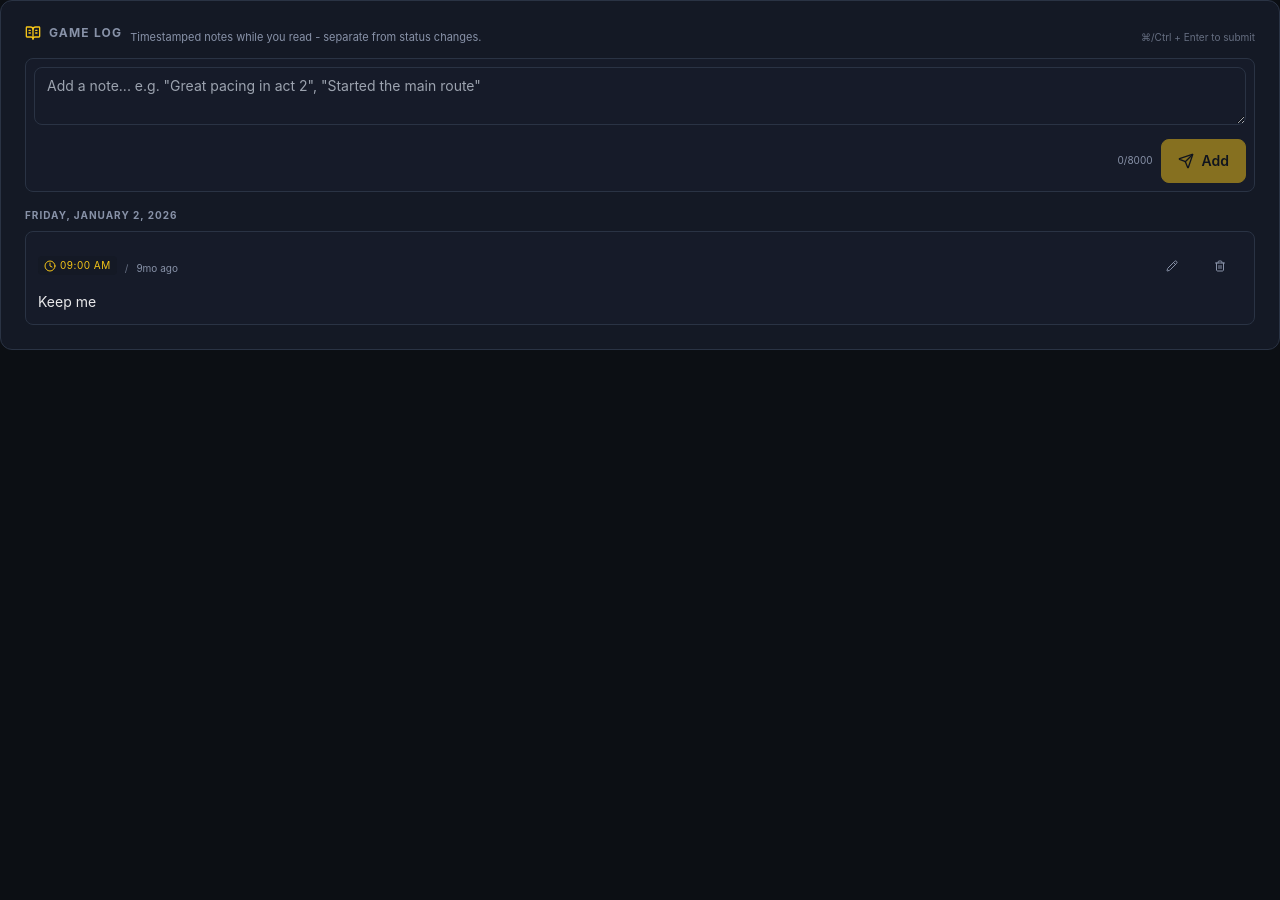
Test: GameLog branches › performs no DELETE when the remove confirm is cancelled
This screenshot has width=1280, height=900.
Click the button named "Delete": (1220, 266) [1198,244,1242,288]
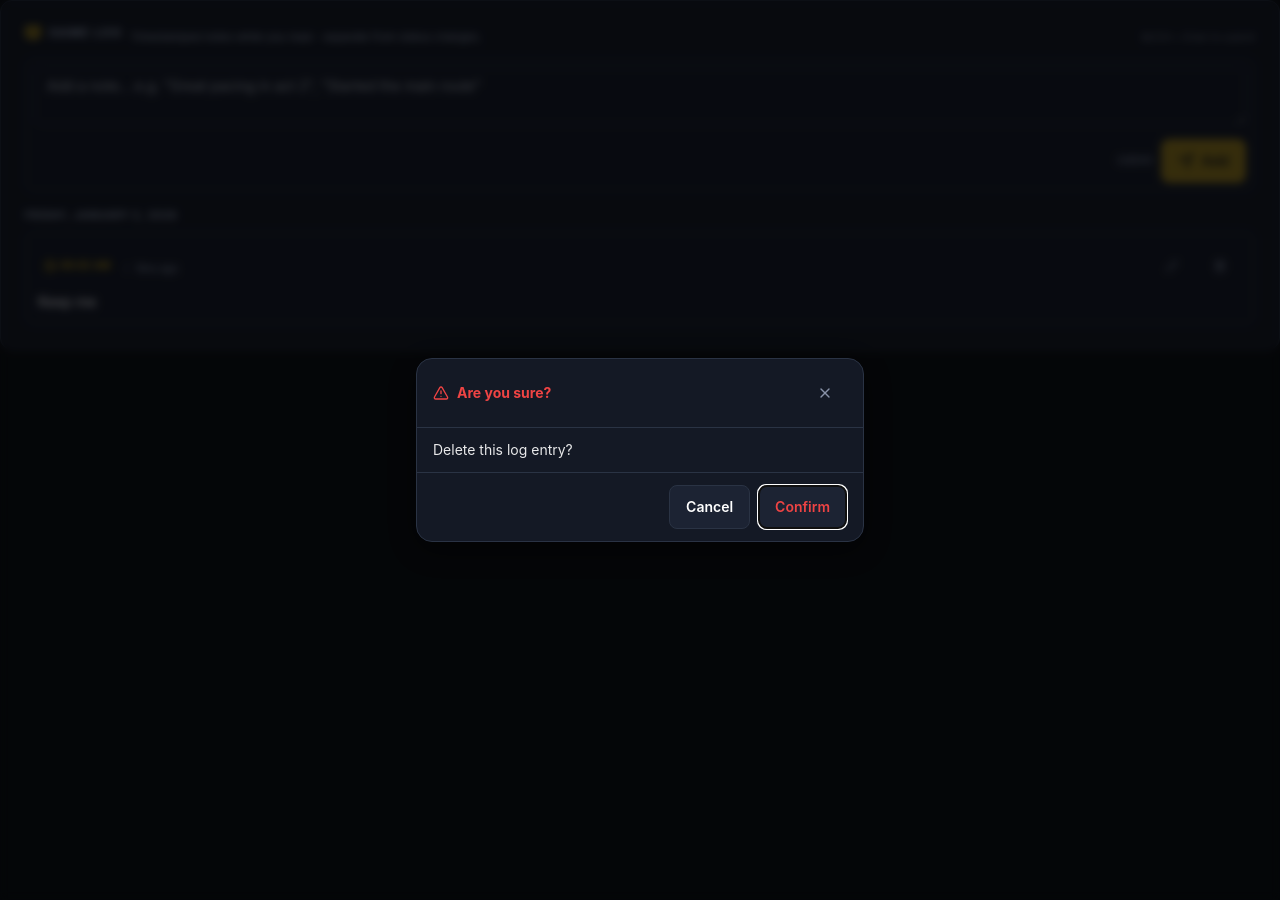
Click the button "Cancel": (710, 507) [669,485,750,529]
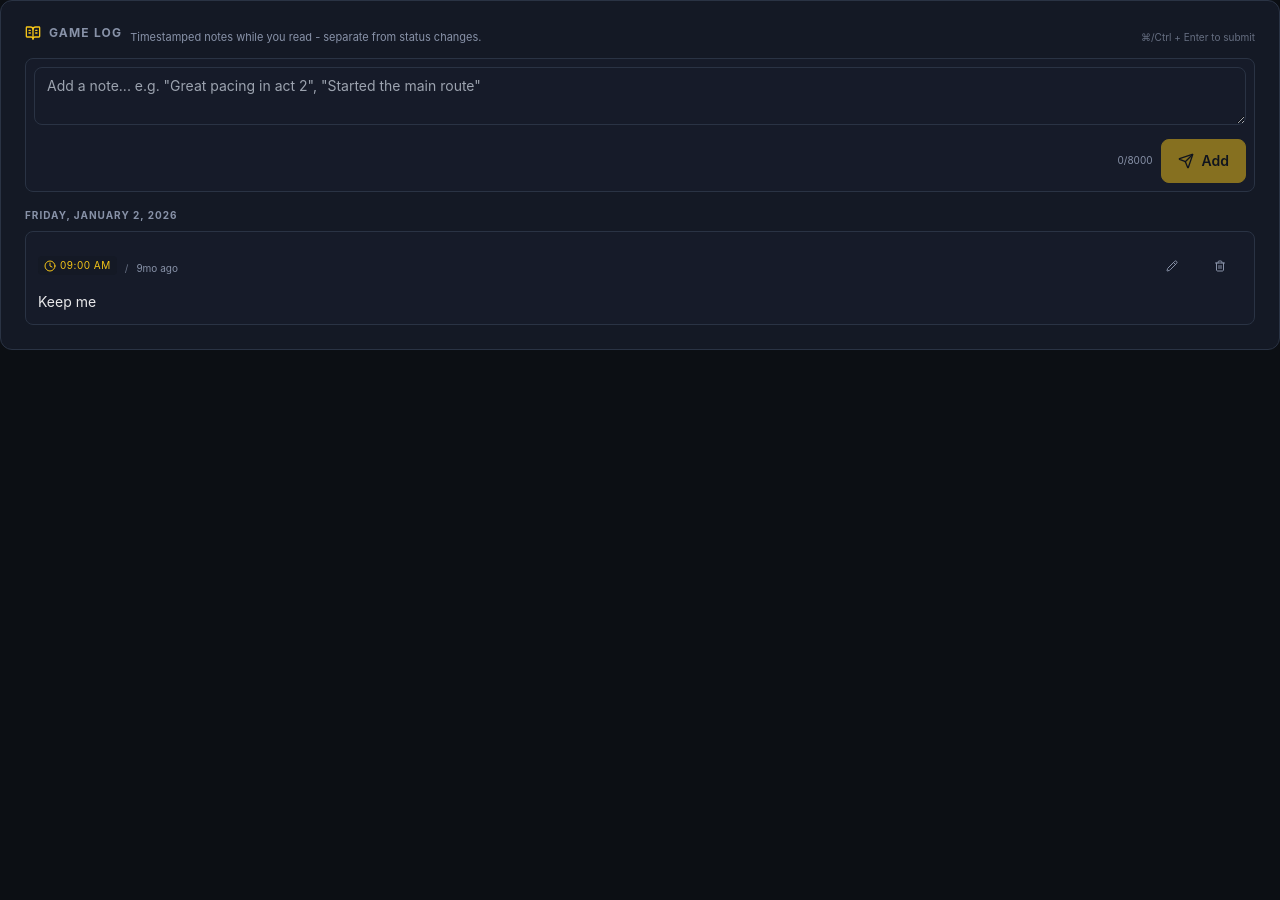
expect the text "Keep me" is shown: met, box [38,292,96,310]
expect the button "Cancel" is gone: met
